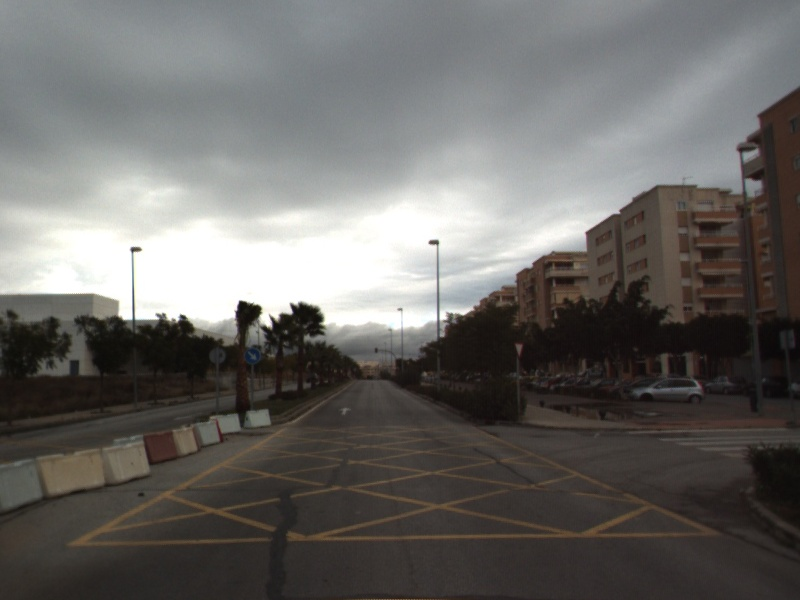STRAIGHT: (336, 405, 354, 417)
